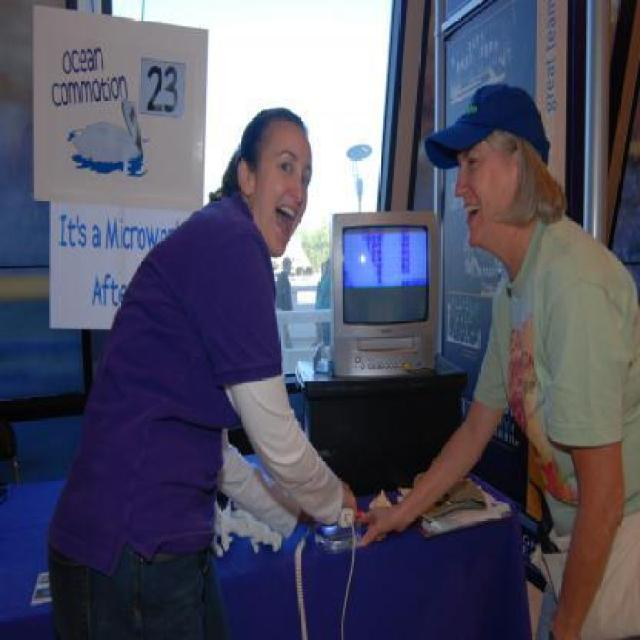Person: (350, 84, 638, 638), (81, 81, 342, 624)
